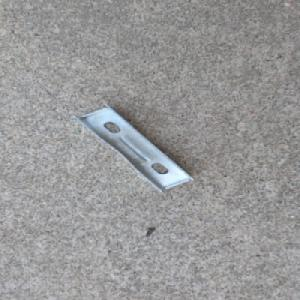ClampPart: (74, 103, 197, 192)
